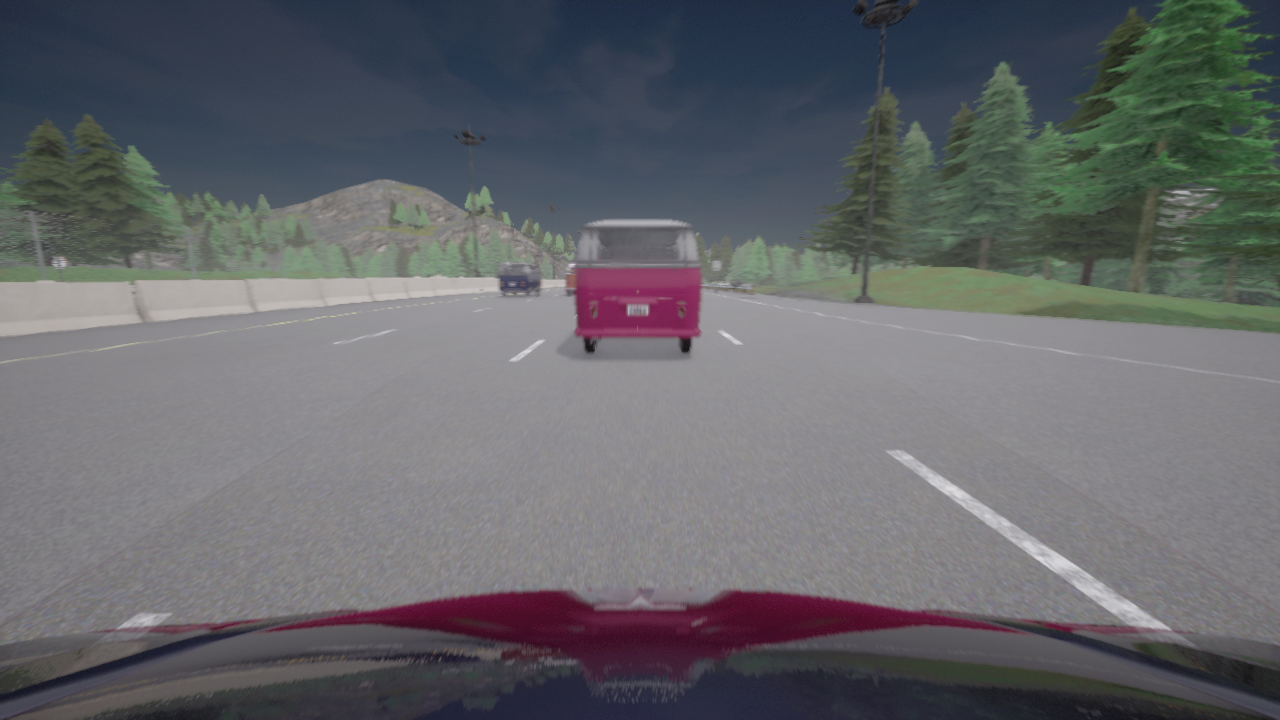cyclist: (0, 588, 1279, 719), (574, 219, 700, 353), (497, 262, 541, 296), (565, 262, 575, 295)
